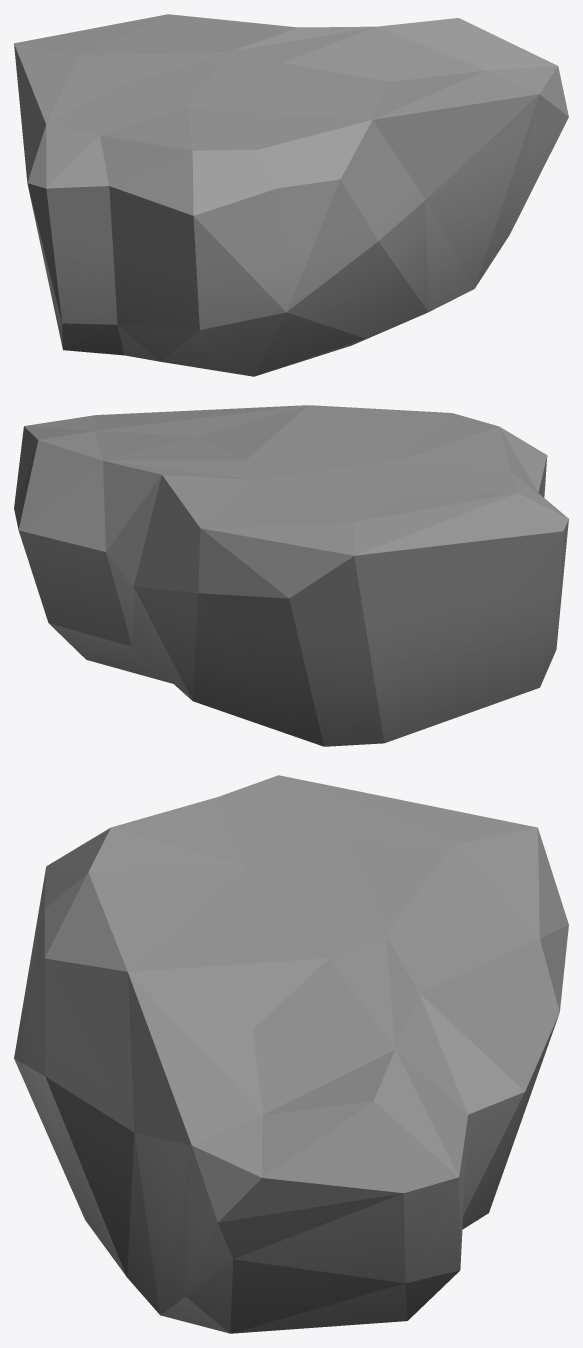
File: Jungle_PlatformRock_Small_B.fbx
3 views of the same model, one above another, from view 1: azimuth 30°, elevation 25°; view 2: azimuth 150°, elevation 25°; view 3: azimuth 270°, elevation 25° (orthographic). The views are drawn at different scales.
Parts seen in each view (by area): view 1: Jungle_PlatformRock_Small_B; view 2: Jungle_PlatformRock_Small_B; view 3: Jungle_PlatformRock_Small_B.
Boxes of the visible parts, bbox=[...] form: Jungle_PlatformRock_Small_B: bbox=[14, 14, 568, 376]; Jungle_PlatformRock_Small_B: bbox=[14, 405, 568, 746]; Jungle_PlatformRock_Small_B: bbox=[14, 775, 568, 1333].
Size of the model in its own units: 6.52 by 2.71 by 4.44.
